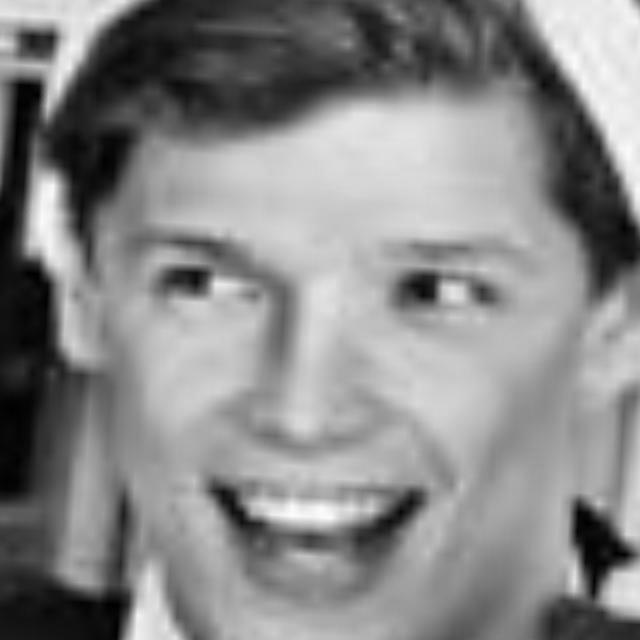Happiness: (35, 0, 630, 640)
